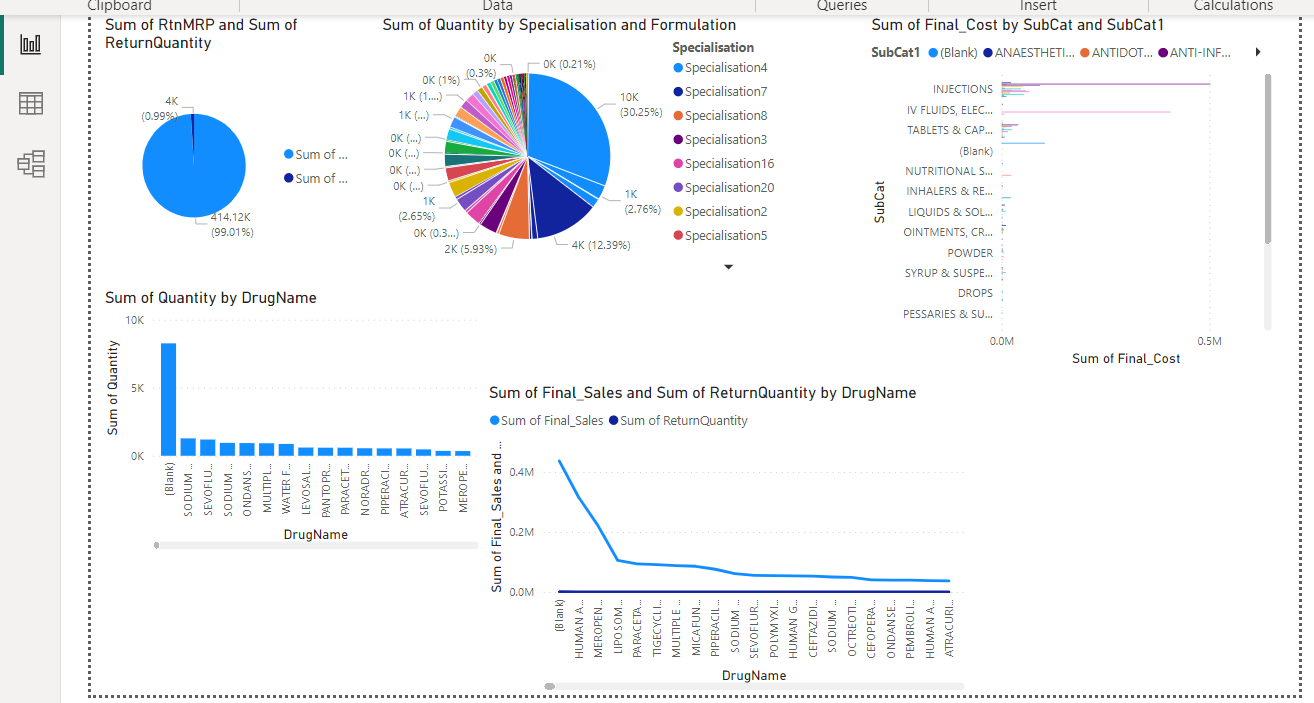

The dashboard page shown, as its layout file describes it:
{"tool":"powerbi","page":{"name":"Page 1","canvas":[1280,720],"ordinal":0},"visuals":[{"type":"pieChart","fields":{"Y":["Sum(Projectfinaldata.RtnMRP)","Sum(Projectfinaldata.ReturnQuantity)"]},"box":[10,0,280,280],"z":0},{"type":"clusteredColumnChart","fields":{"Category":["Projectfinaldata.DrugName"],"Y":["Sum(Projectfinaldata.Quantity)"]},"box":[9.4,289.1,406.3,281.6],"z":1},{"type":"pieChart","fields":{"Category":["Projectfinaldata.Specialisation","Projectfinaldata.Dept","Projectfinaldata.DrugName"],"Series":["Projectfinaldata.Formulation"],"Y":["Sum(Projectfinaldata.Quantity)"]},"box":[304.3,0,434.6,279.7],"z":2},{"type":"lineChart","fields":{"Category":["Projectfinaldata.DrugName"],"Y":["Sum(Projectfinaldata.Final_Sales)","Sum(Projectfinaldata.ReturnQuantity)"]},"box":[415.8,389.3,514,330.7],"z":3},{"type":"clusteredBarChart","fields":{"Category":["Projectfinaldata.SubCat"],"Series":["Projectfinaldata.SubCat1"],"Y":["Sum(Projectfinaldata.Final_Cost)"]},"box":[822.1,0,434.6,376.1],"z":4}]}

Visuals, with their boxes on the page's 1280x720 design canvas (x1, y1, x2, y2). These are canvas units, not pixel positions in the 1314x703 screenshot, which may show the page scaled, cropped or inside an application window:
pieChart - Sum(Projectfinaldata.RtnMRP) x Sum(Projectfinaldata.ReturnQuantity): BBox(10, 0, 290, 280)
clusteredColumnChart - Projectfinaldata.DrugName x Sum(Projectfinaldata.Quantity): BBox(9, 289, 416, 571)
pieChart - Projectfinaldata.Specialisation x Projectfinaldata.Dept: BBox(304, 0, 739, 280)
lineChart - Projectfinaldata.DrugName x Sum(Projectfinaldata.Final_Sales): BBox(416, 389, 930, 720)
clusteredBarChart - Projectfinaldata.SubCat x Projectfinaldata.SubCat1: BBox(822, 0, 1257, 376)
